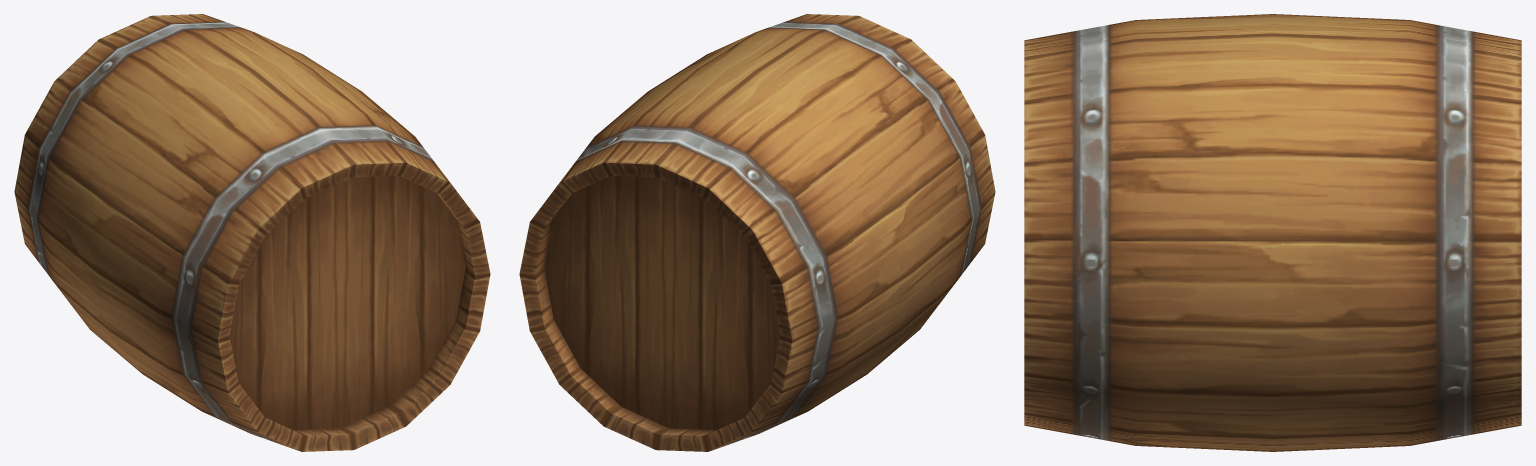
Rendered from Barrel_02.FBX.
The picture shows the model from 3 angles, left to right: view 1: azimuth 30°, elevation 25°; view 2: azimuth 150°, elevation 25°; view 3: azimuth 270°, elevation 25°; orthographic projection. The views are drawn at different scales.
Visible parts, largest first — view 1: Barrel_02; view 2: Barrel_02; view 3: Barrel_02.
Part boxes in pixels (box(x1,y1,x2,y2)): Barrel_02: box(14, 14, 490, 451); Barrel_02: box(519, 14, 995, 451); Barrel_02: box(1024, 14, 1521, 451).
Bounding box in the file's own units: 85.05 × 96.53 × 85.05.
